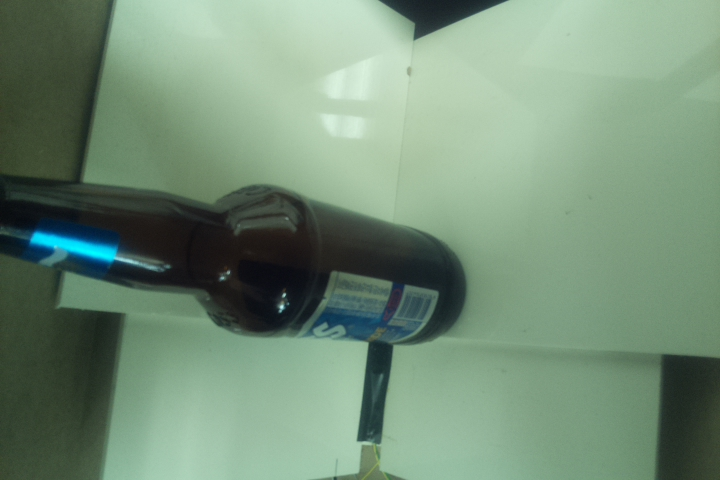makju: (1, 171, 467, 347)
